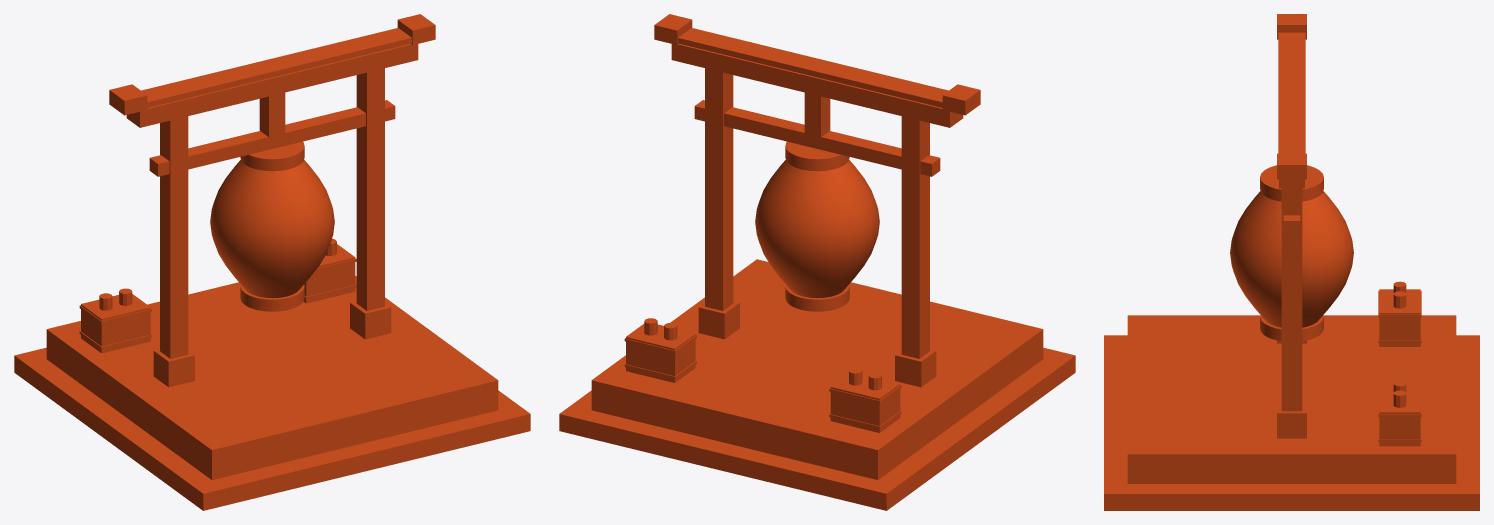
Rendered from gen-shrine-lantern-1.glb.
3 renders of one model, left to right at view 1: azimuth 30°, elevation 25°; view 2: azimuth 150°, elevation 25°; view 3: azimuth 270°, elevation 25°, orthographic.
Visible parts, largest first — view 1: gen-shrine-lantern-1_part1; view 2: gen-shrine-lantern-1_part1; view 3: gen-shrine-lantern-1_part1.
Boxes of the visible parts, left/top/right/bottom form: gen-shrine-lantern-1_part1: left=14, top=14, right=530, bottom=510; gen-shrine-lantern-1_part1: left=559, top=14, right=1075, bottom=510; gen-shrine-lantern-1_part1: left=1104, top=14, right=1479, bottom=510.
Size of the model in its own units: 4000 by 4020 by 4000.
